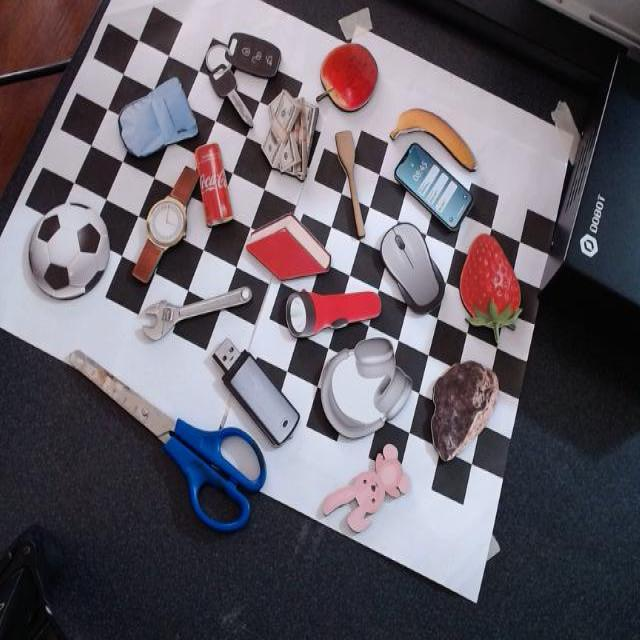Other Objects: (67, 348, 266, 531), (308, 318, 419, 456), (206, 328, 302, 452), (194, 7, 284, 125), (21, 195, 114, 308), (130, 164, 200, 283), (321, 443, 410, 532), (112, 75, 197, 168), (393, 141, 474, 232), (430, 359, 498, 461), (282, 271, 381, 340), (138, 285, 252, 340), (379, 220, 445, 313), (389, 107, 476, 172), (260, 87, 318, 181), (316, 43, 378, 112), (193, 141, 233, 227), (335, 130, 365, 240)
